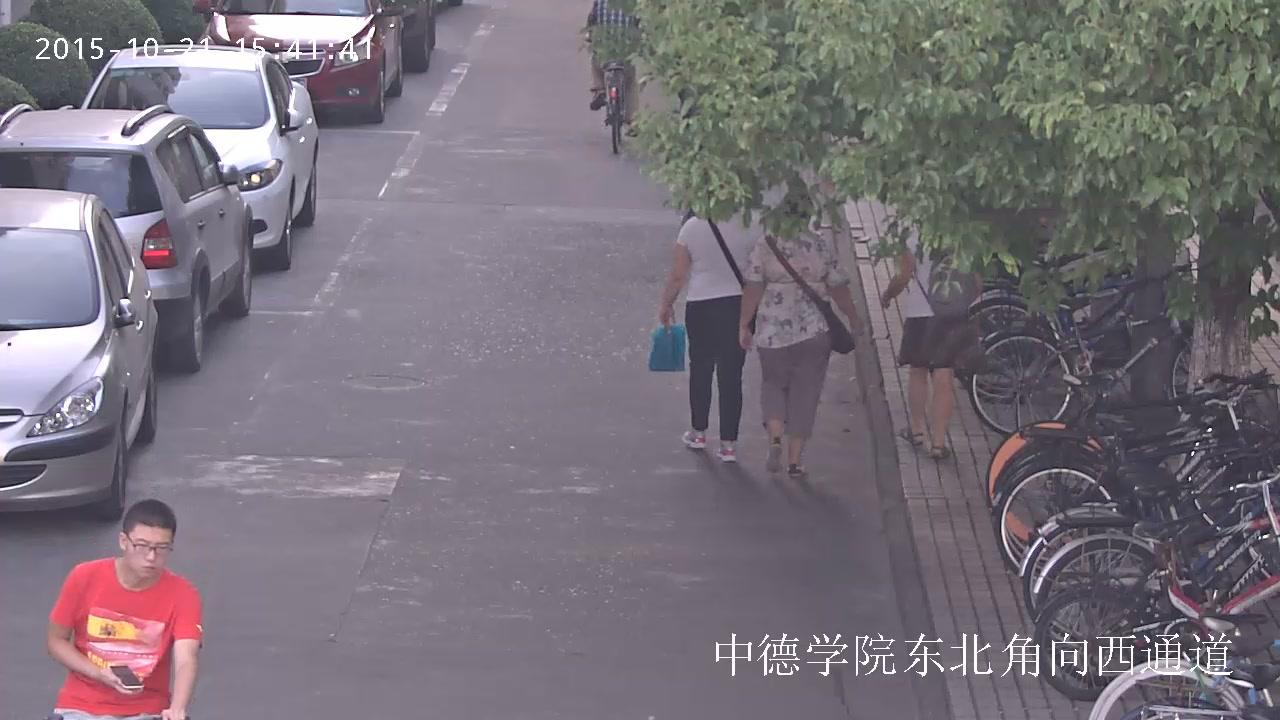face: (125, 523, 171, 575)
